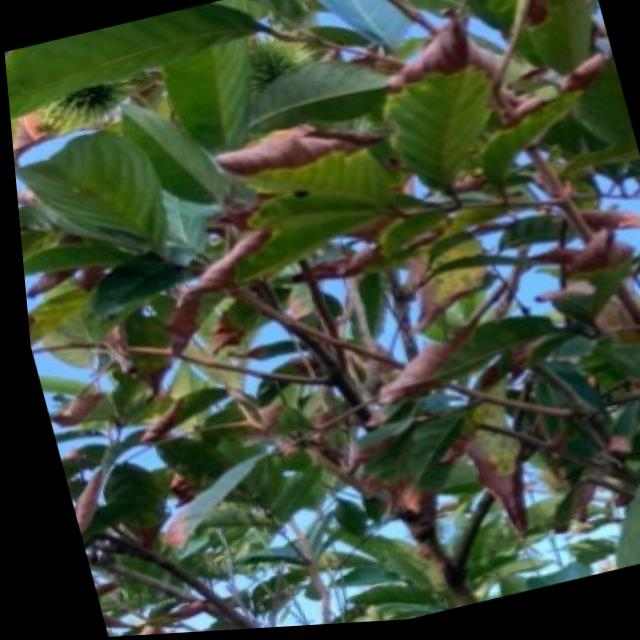Leaf Blight: (265, 289, 640, 495), (206, 454, 631, 579), (117, 188, 346, 382), (383, 0, 627, 166), (59, 346, 277, 516), (384, 185, 640, 329), (211, 76, 414, 224), (94, 565, 478, 638)
